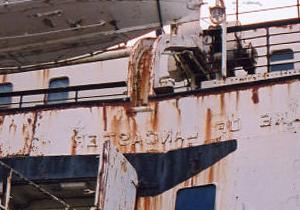rust: (122, 38, 162, 208), (200, 90, 235, 185), (21, 108, 41, 157), (69, 127, 97, 156), (250, 86, 264, 104)
